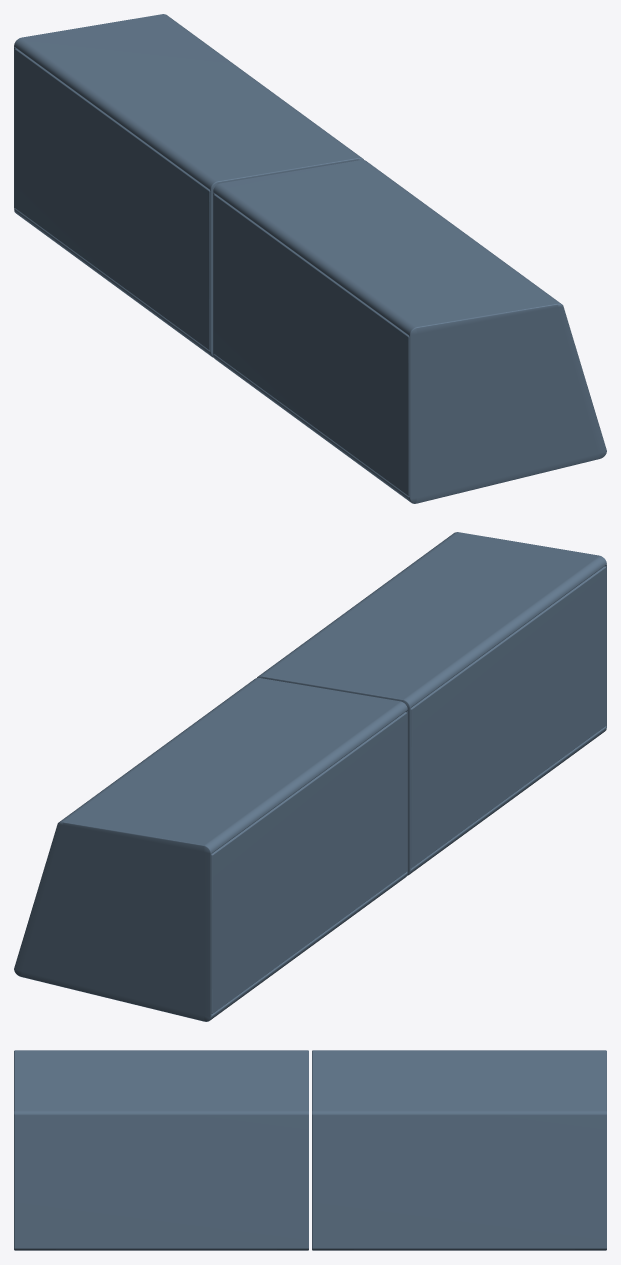
File: Cabinet_1V1.glb
3 renders of one model, top to bottom at view 1: azimuth 30°, elevation 25°; view 2: azimuth 150°, elevation 25°; view 3: azimuth 270°, elevation 25°, orthographic. The views are drawn at different scales.
Parts seen in each view (by area): view 1: AO_1_Cabinet_1; view 2: AO_1_Cabinet_1; view 3: AO_1_Cabinet_1.
Part boxes in pixels (bbox=[...]): AO_1_Cabinet_1: bbox=[14, 14, 606, 503]; AO_1_Cabinet_1: bbox=[14, 532, 606, 1021]; AO_1_Cabinet_1: bbox=[14, 1050, 606, 1250].
Size of the model in its own units: 0.3517 by 0.2999 by 1.22.
Materials: 1 (1 with a texture image).
